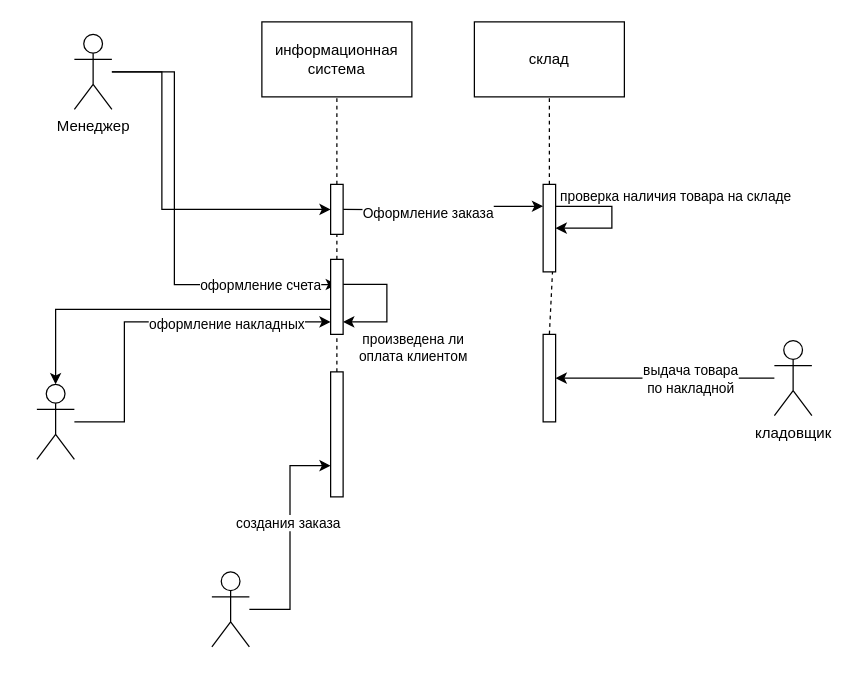
This 853x695 diagram has some shape labels left out. The shapes that lost their labels are listed below. From the top down, each one's centre as x and y in pixels, then its label:
At pixel 55 421: "бухгалтер".
At pixel 230 609: "клиент".
